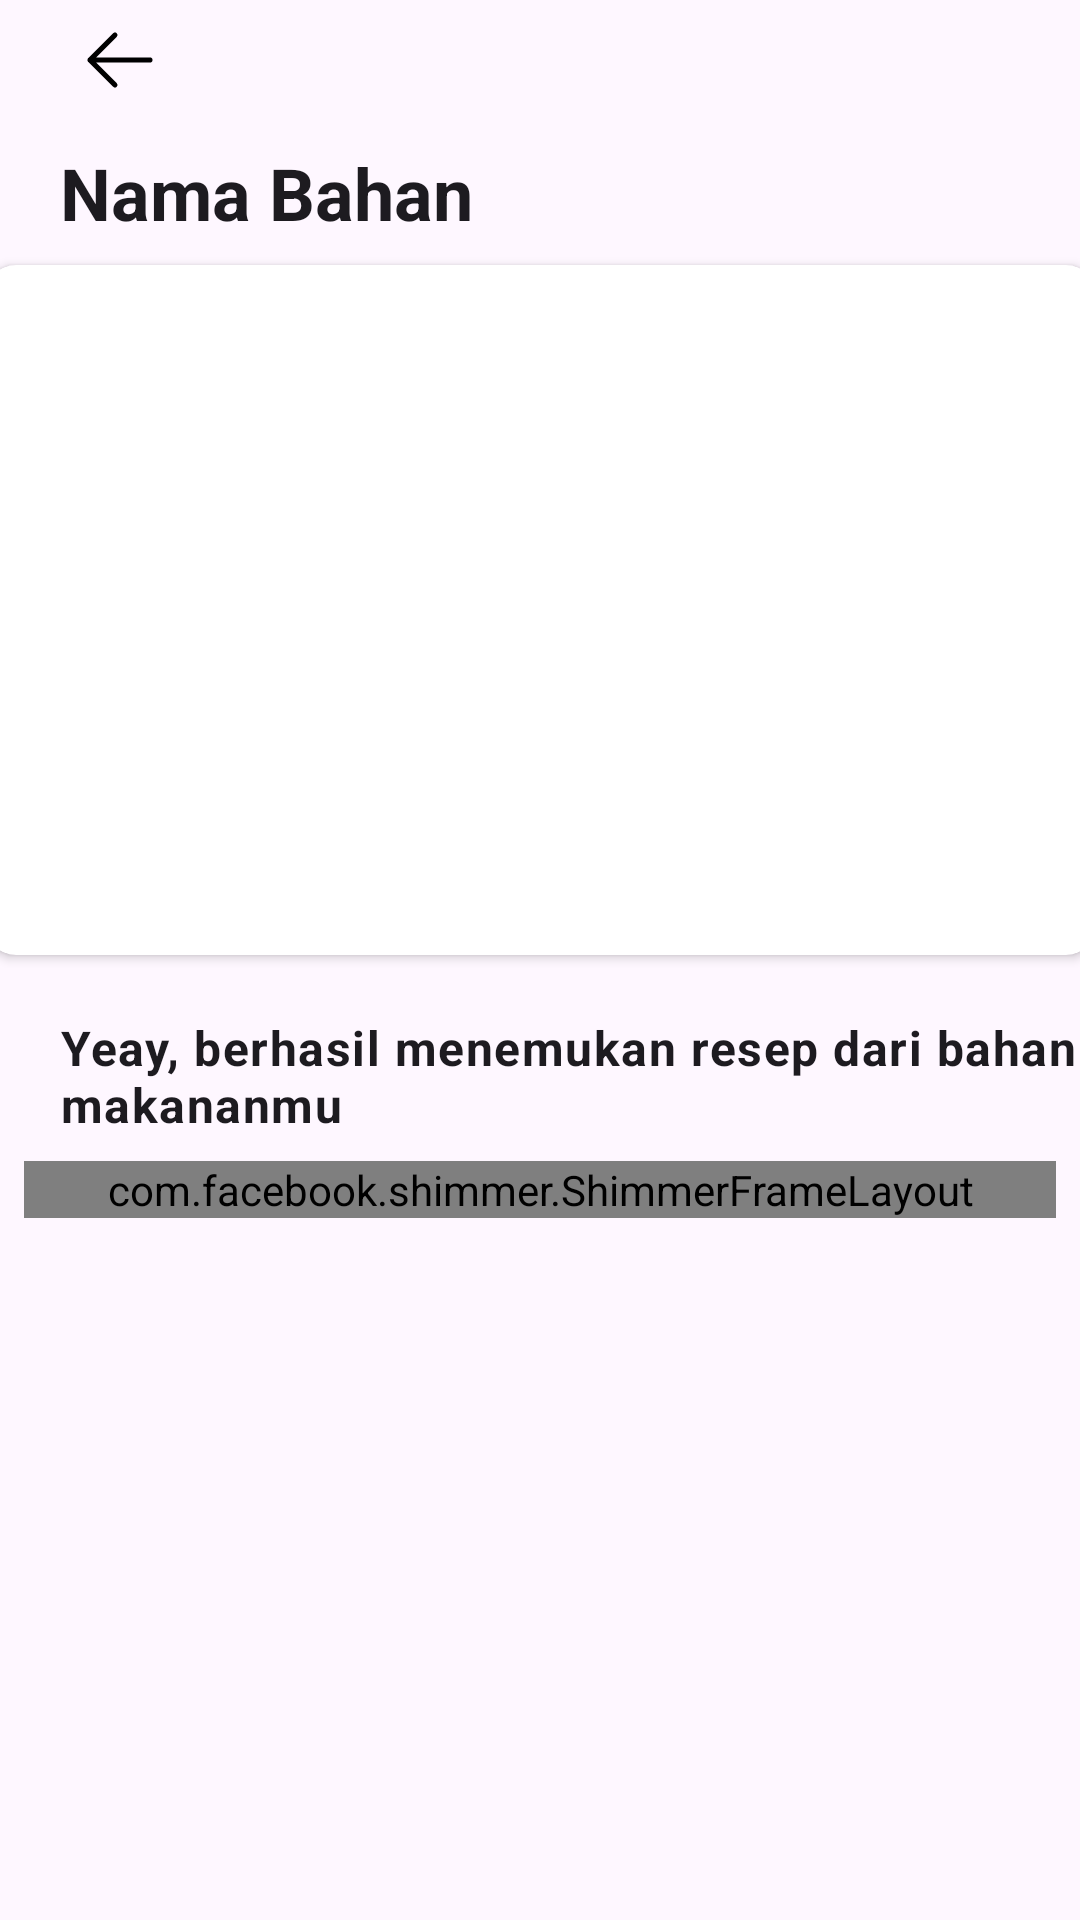

Where icons sit on this 1080*1920 app screen, as (x1, y1, x2, y2):
back button: (87, 32, 153, 88)
